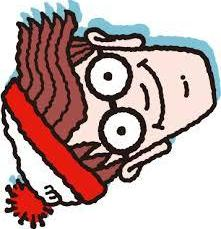waldos: (1, 7, 221, 228)
